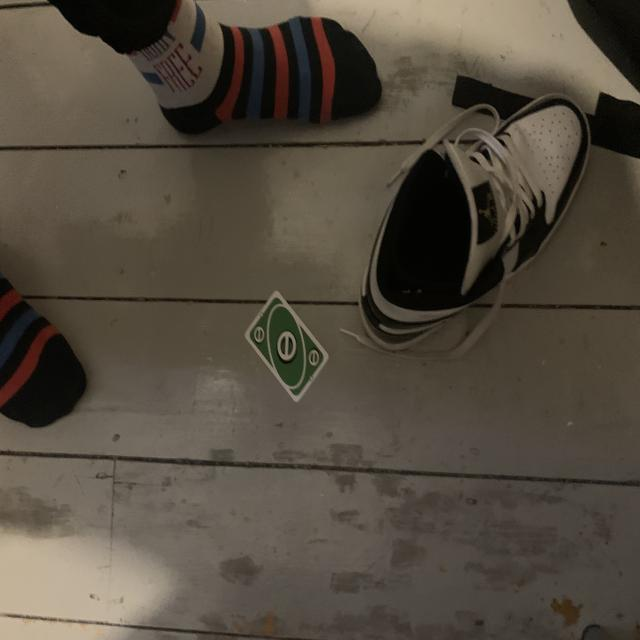lgreenskip-20: (252, 324, 267, 345)
